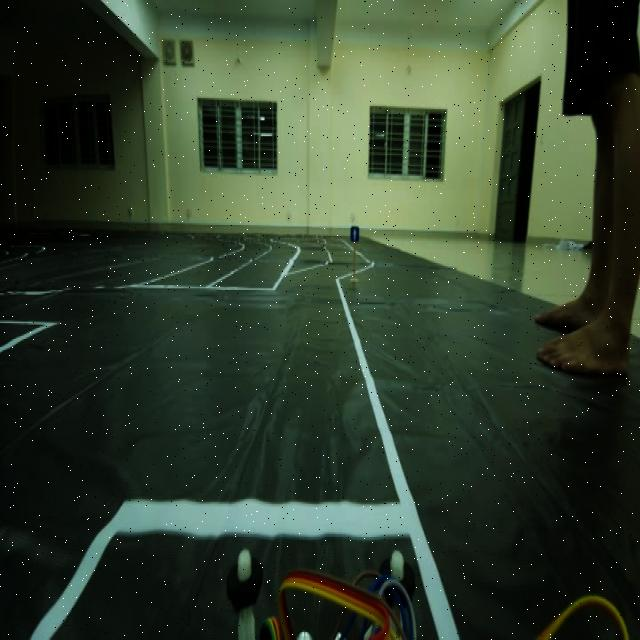onewayroad: (346, 222, 362, 248)
